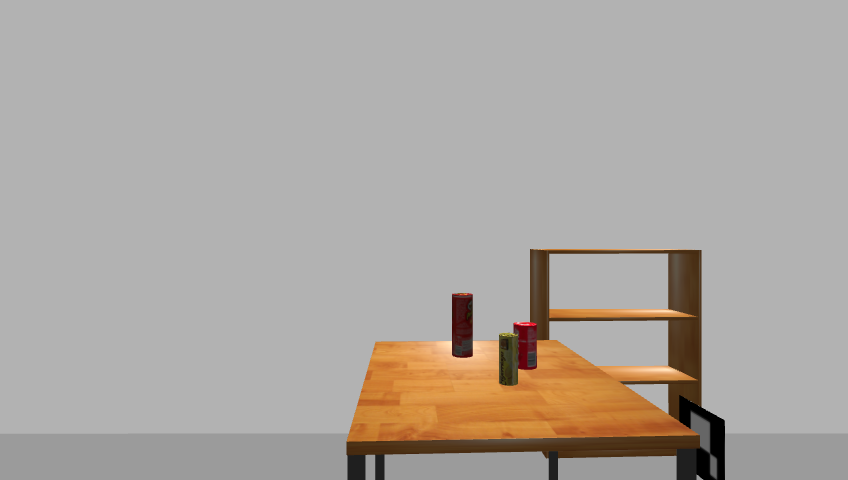aruco marker: (672, 394, 731, 480)
biscuits pack: (498, 331, 518, 387)
bookshelf: (525, 245, 708, 480)
coke can: (514, 321, 539, 370)
dinner table: (342, 341, 700, 480)
pringles can: (449, 292, 476, 360)
